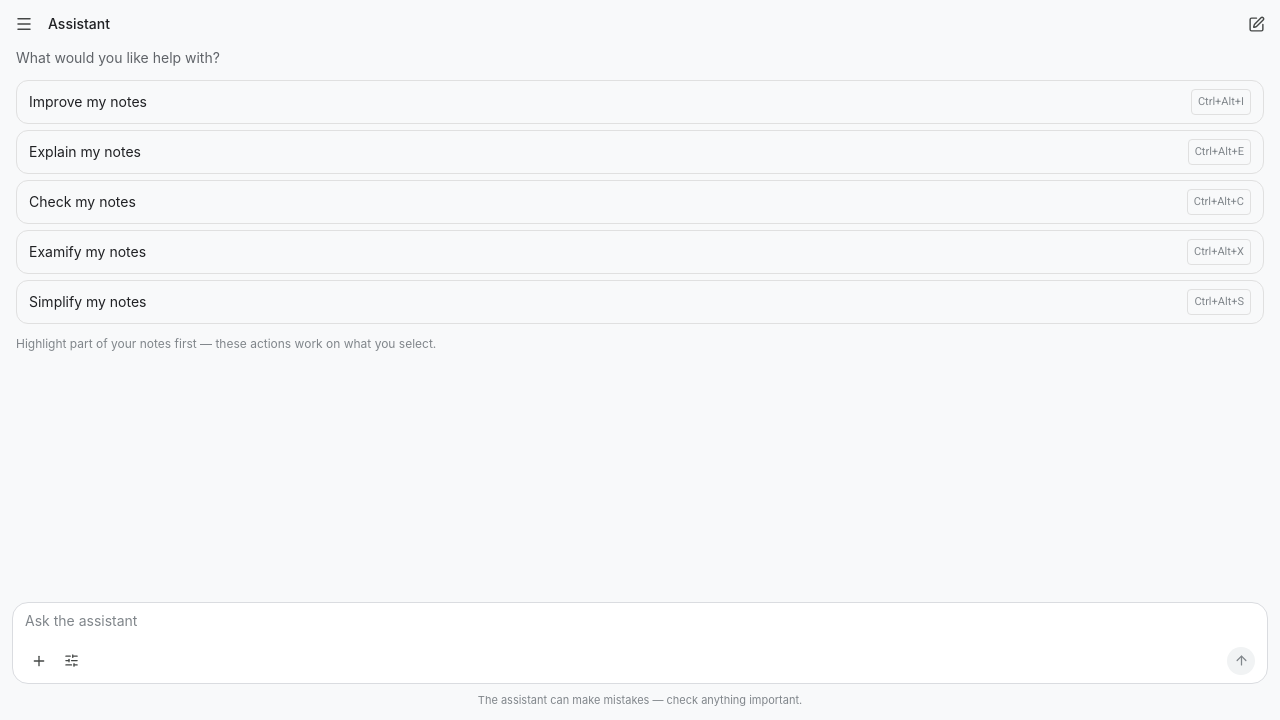
Test: AiSidebar › actions that need a selection › asks the same way when the button is clicked with no selection
Click the button "Improve my notes Ctrl+Alt+I".
click(88, 102)  # box [16, 80, 1264, 124]
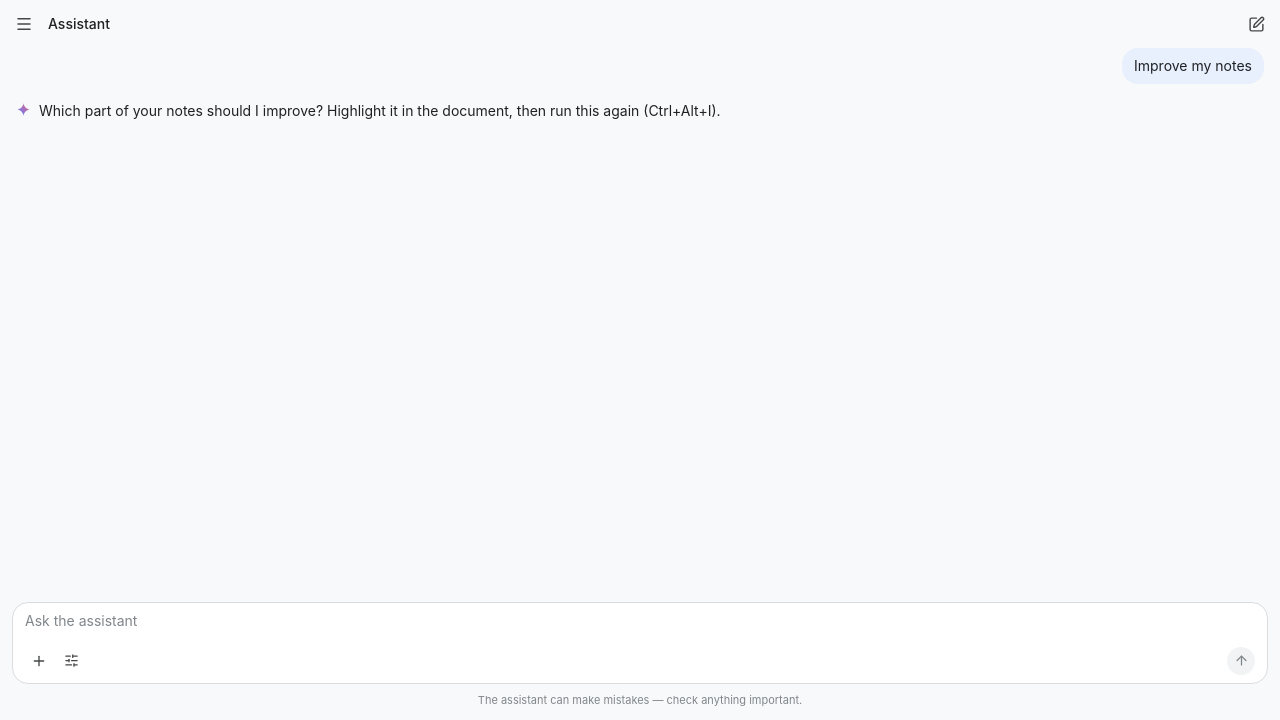
Now the text "Which part of your notes should I improve?" is shown, box [39, 102, 721, 119]
